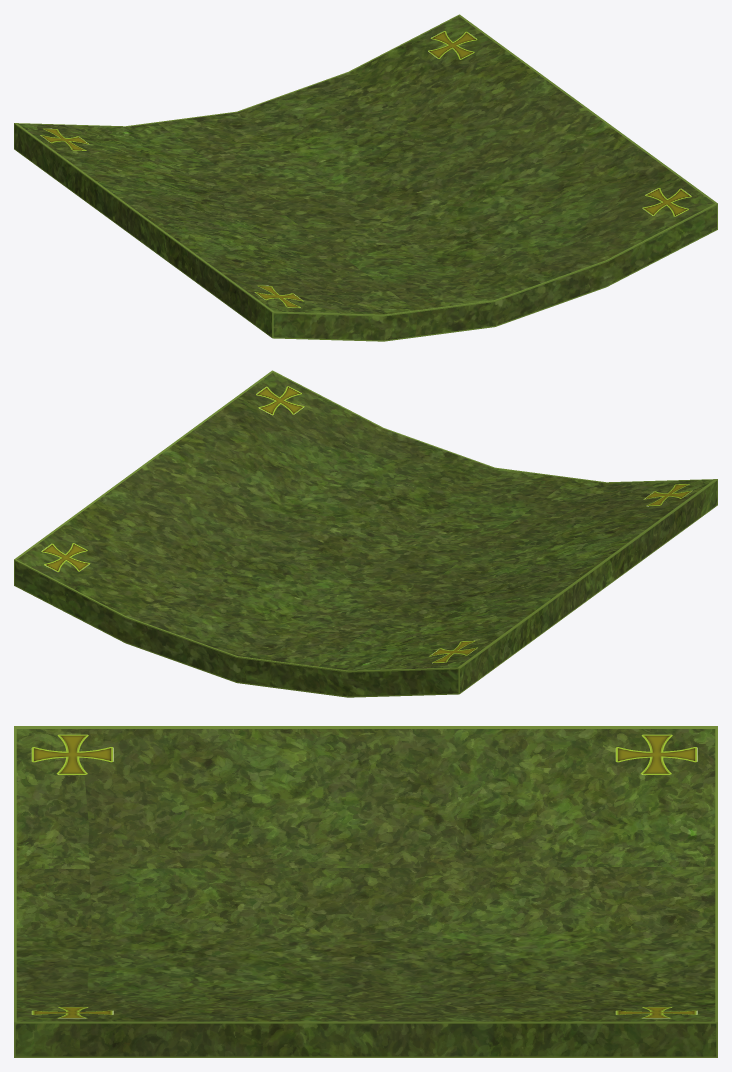
File: mountain_floor_dpath.gltf
3 views of the same model, one above another, from view 1: azimuth 30°, elevation 25°; view 2: azimuth 150°, elevation 25°; view 3: azimuth 270°, elevation 25° (orthographic). The views are drawn at different scales.
Visible parts, largest first — view 1: mountain_floor_dpath_glb; view 2: mountain_floor_dpath_glb; view 3: mountain_floor_dpath_glb.
Part boxes in pixels (x1,y1,x2,y2): mountain_floor_dpath_glb: [14, 14, 717, 341]; mountain_floor_dpath_glb: [14, 370, 717, 697]; mountain_floor_dpath_glb: [14, 726, 717, 1057].
Size of what is drawn, in the model's own units: 3.98 by 0.591 by 4.
2 materials, 2 textured.
